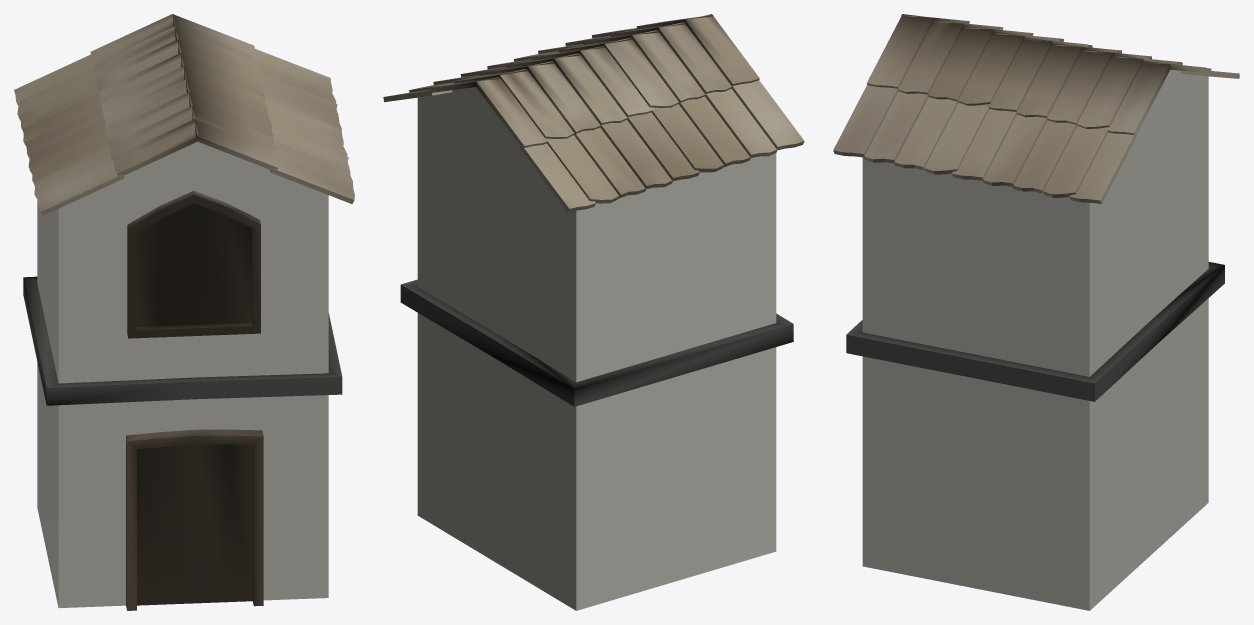
The model's file is House04.fbx.
The picture shows the model from 3 angles, left to right: view 1: azimuth 30°, elevation 25°; view 2: azimuth 150°, elevation 25°; view 3: azimuth 270°, elevation 25°; orthographic projection. The views are drawn at different scales.
Parts seen in each view (by area): view 1: House04_LOD0; view 2: House04_LOD0; view 3: House04_LOD0.
Part boxes in pixels (box(x1,y1,x2,y2)): House04_LOD0: box(14, 14, 354, 610); House04_LOD0: box(383, 14, 804, 610); House04_LOD0: box(833, 14, 1239, 610).
Size of what is drawn, in the model's own units: 178 by 231 by 171.
